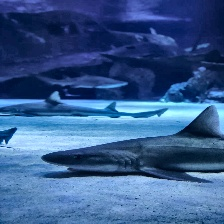shark: (0, 127, 17, 146)
